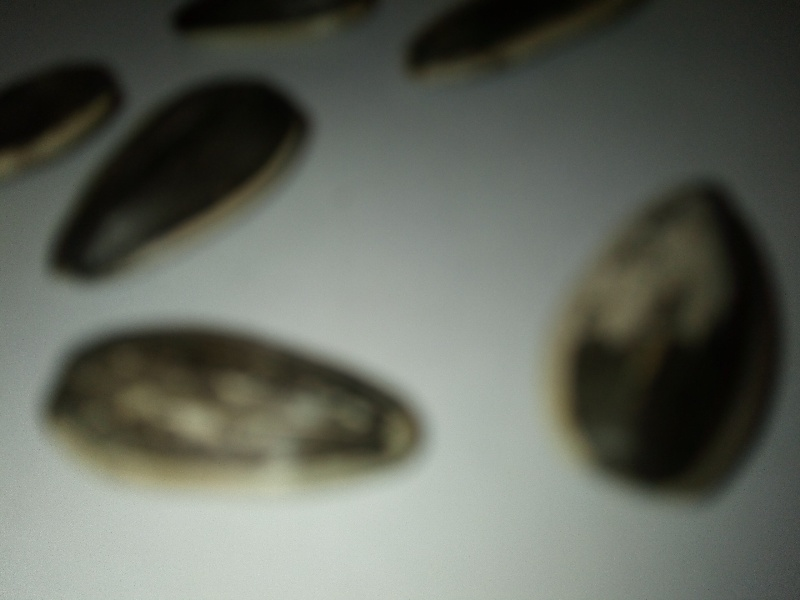w: (21, 312, 462, 507)
